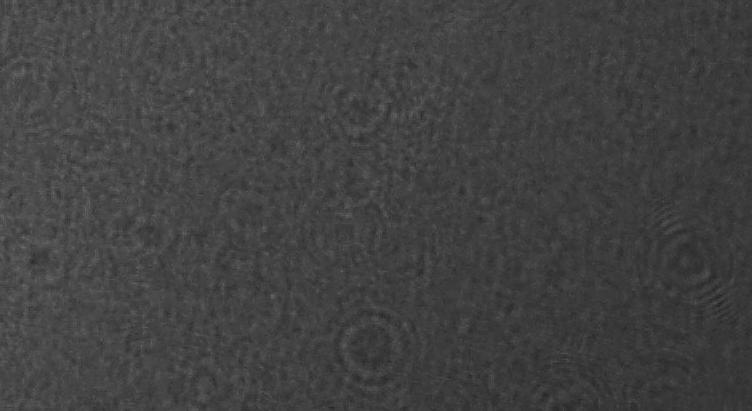bead: (300, 292, 448, 411), (622, 197, 747, 310), (305, 63, 400, 147)
